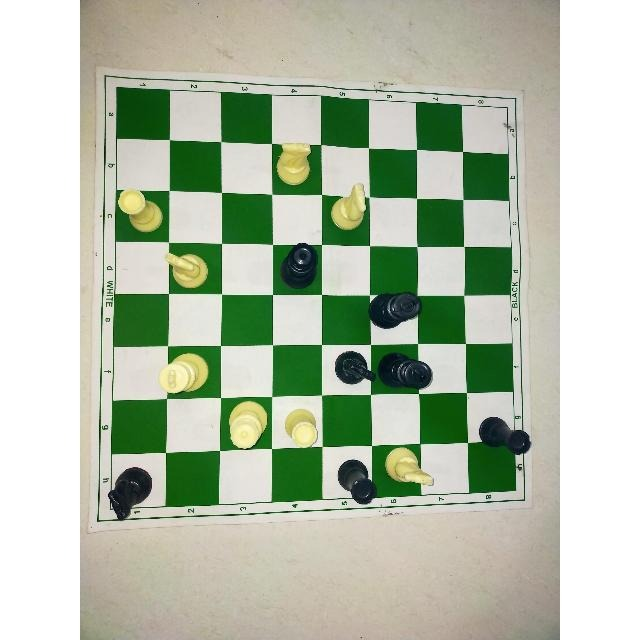black-king: (362, 283, 425, 337), (375, 348, 435, 395)
black-knight: (104, 462, 154, 526), (328, 348, 377, 390)
black-queen: (279, 236, 322, 294)
black-rook: (477, 409, 535, 460), (331, 451, 377, 511)
white-king: (152, 346, 213, 398)
white-knight: (377, 441, 437, 495), (161, 243, 219, 295), (326, 175, 373, 237), (271, 135, 317, 192)
white-queen: (224, 388, 274, 456)
white-rook: (113, 184, 163, 236), (278, 402, 324, 453)
